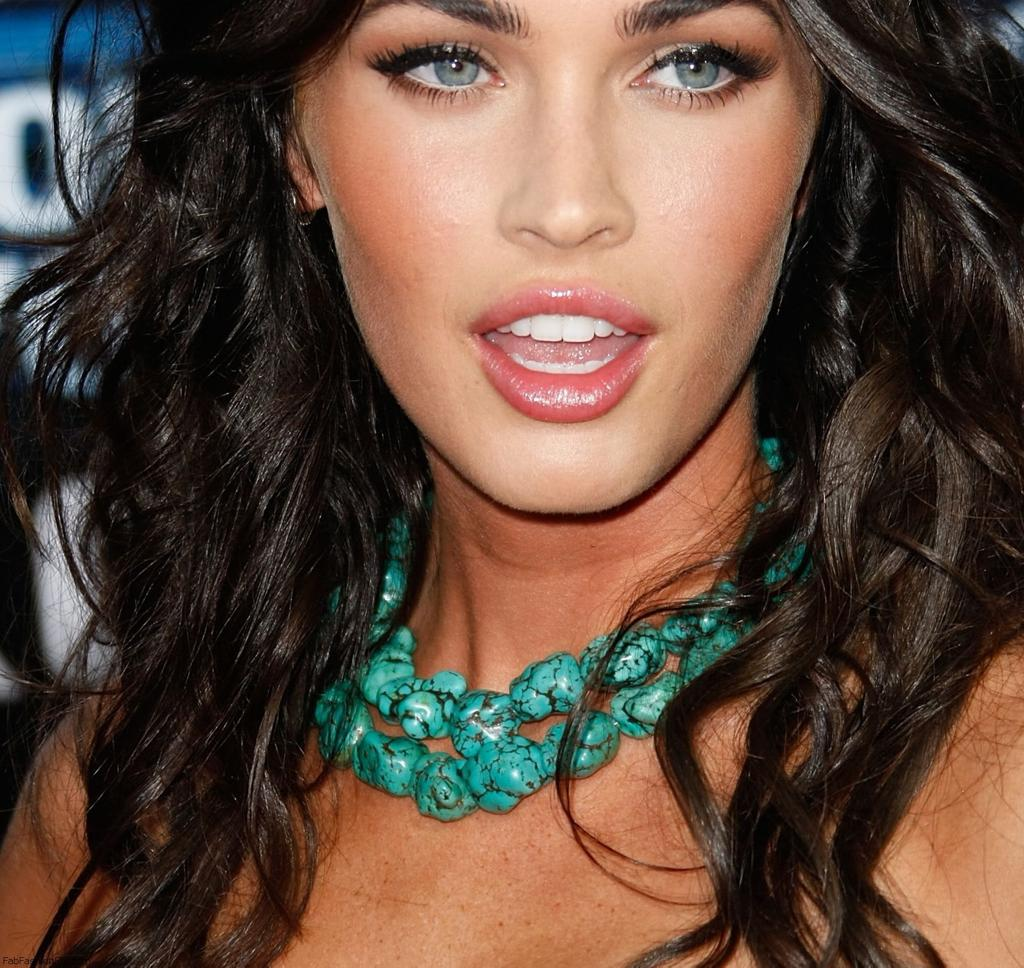face: (302, 6, 824, 514)
